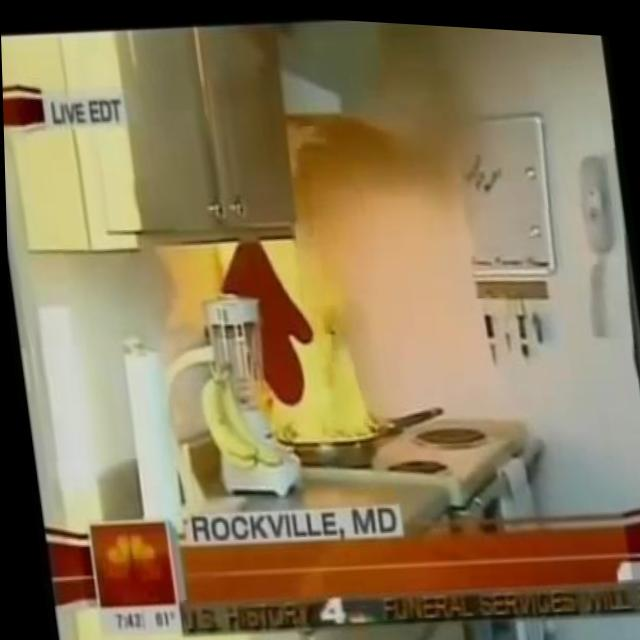fire: (240, 222, 379, 452)
